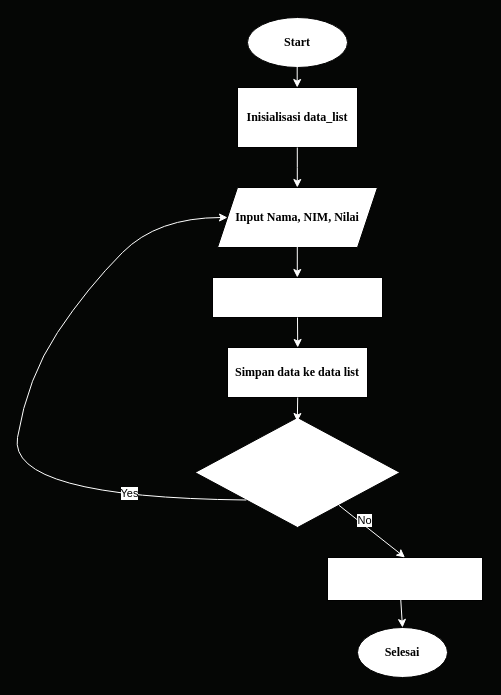
The diagram is 501 pixels wide and 695 high, and some of its shapes have lost their labels. Each missing label, with the centre of its shape:
A pakah ingin menambah data lagi?: (297,472)
Hitung Nilai akhir (Nilai akhir = Tugas * 0.3 + UTS * 0.35 + UAS * 0.35): (297,297)
Tampilkan data mahasiswa: (404,578)
